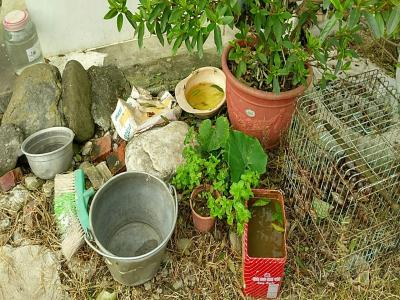bottle: (2, 6, 48, 74)
bowl: (18, 126, 76, 179)
box: (241, 186, 289, 297)
bucket: (87, 169, 182, 287)
